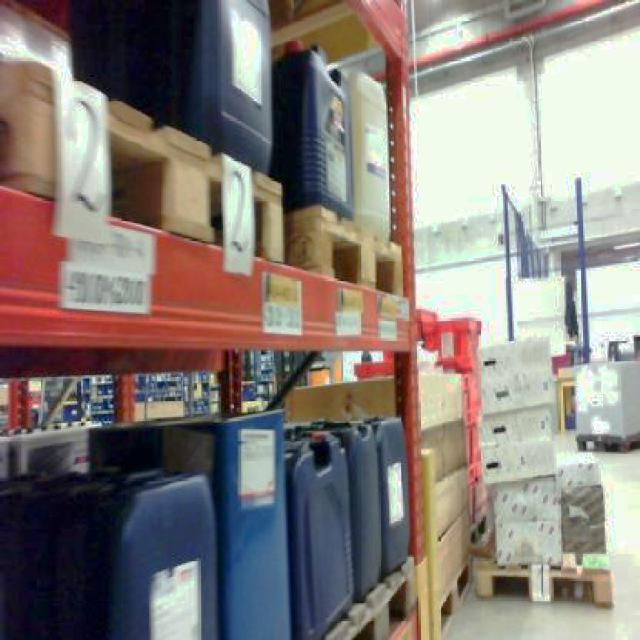ground: (434, 440, 638, 638)
pallet: (283, 368, 472, 638), (474, 335, 612, 608), (417, 368, 472, 638), (472, 552, 612, 608)
